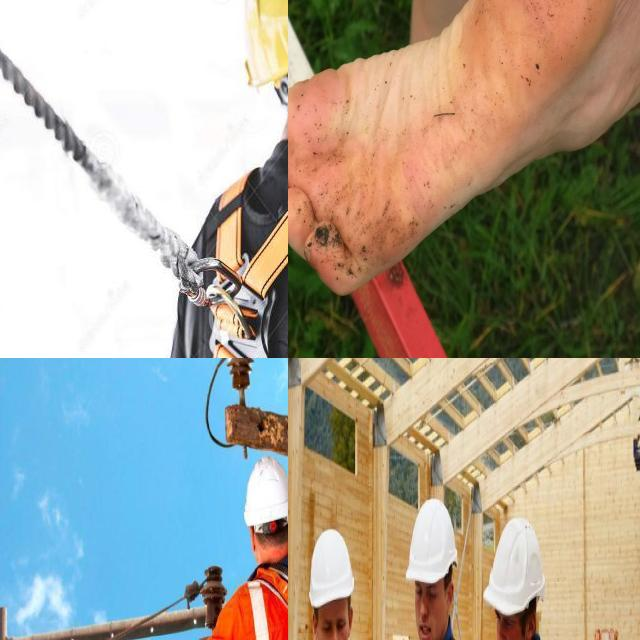Barefoots: (288, 0, 625, 296)
Harness: (213, 176, 288, 358)
face_nomask: (414, 574, 451, 640), (312, 598, 356, 640), (493, 598, 529, 640)
head_helmet: (482, 516, 547, 620), (405, 495, 459, 587), (230, 440, 288, 525), (308, 527, 354, 609)
person: (206, 451, 288, 640), (393, 494, 481, 640), (288, 525, 394, 640), (489, 518, 583, 640)
